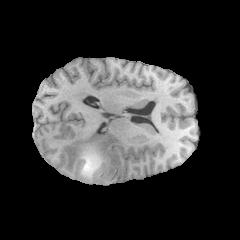glioma: (61, 129, 121, 181)
